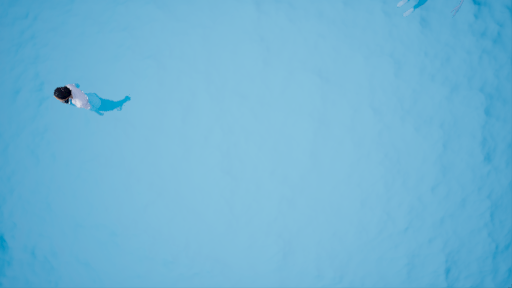person: (53, 81, 137, 119)
